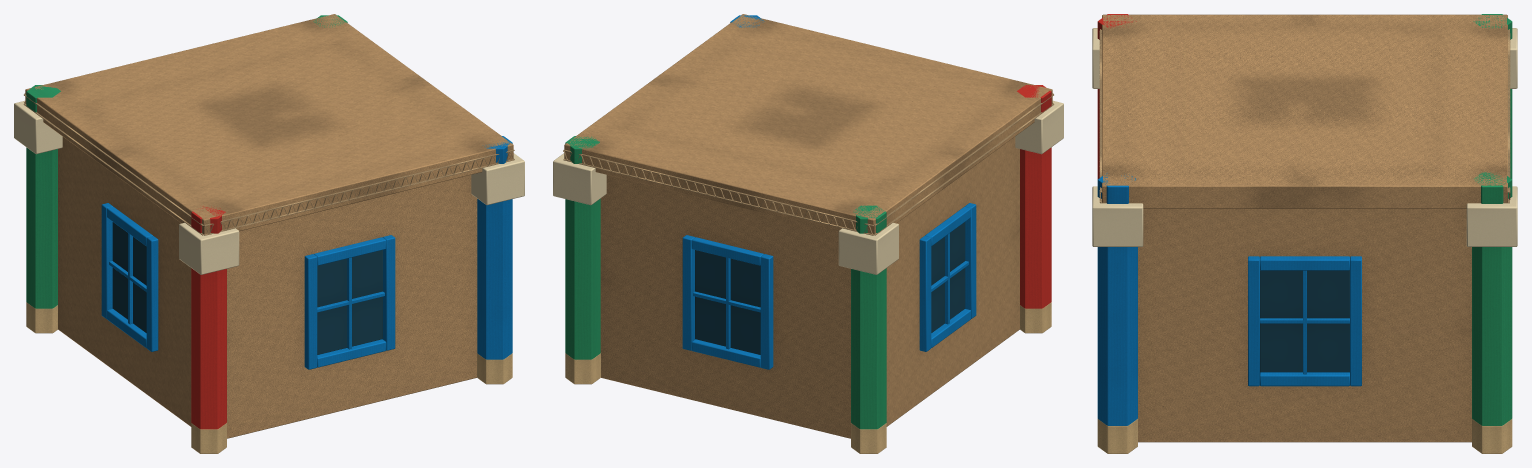
Rendered from 7-pencil-supported-box-4-1.fbx.
3 views of the same model, side by side, from view 1: azimuth 30°, elevation 25°; view 2: azimuth 150°, elevation 25°; view 3: azimuth 270°, elevation 25° (orthographic). The views are drawn at different scales.
Visible parts, largest first — view 1: pencil-supported-box-4-1; view 2: pencil-supported-box-4-1; view 3: pencil-supported-box-4-1.
Part boxes in pixels (x1,y1,x2,y2): pencil-supported-box-4-1: (14, 14, 524, 453); pencil-supported-box-4-1: (553, 14, 1063, 453); pencil-supported-box-4-1: (1092, 14, 1517, 453).
Bounding box in the file's own units: 6700 × 4650 × 6700.
1 material, 1 textured.
